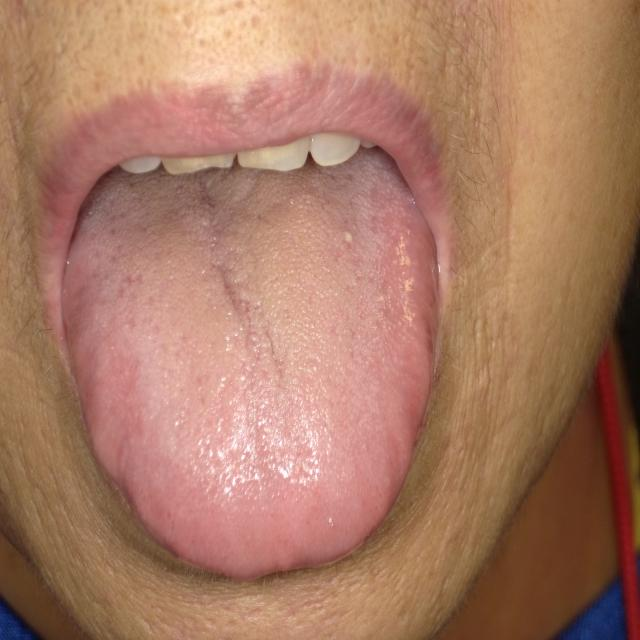huangtaishe: (62, 147, 439, 578)
pangdashe: (62, 147, 439, 578)
